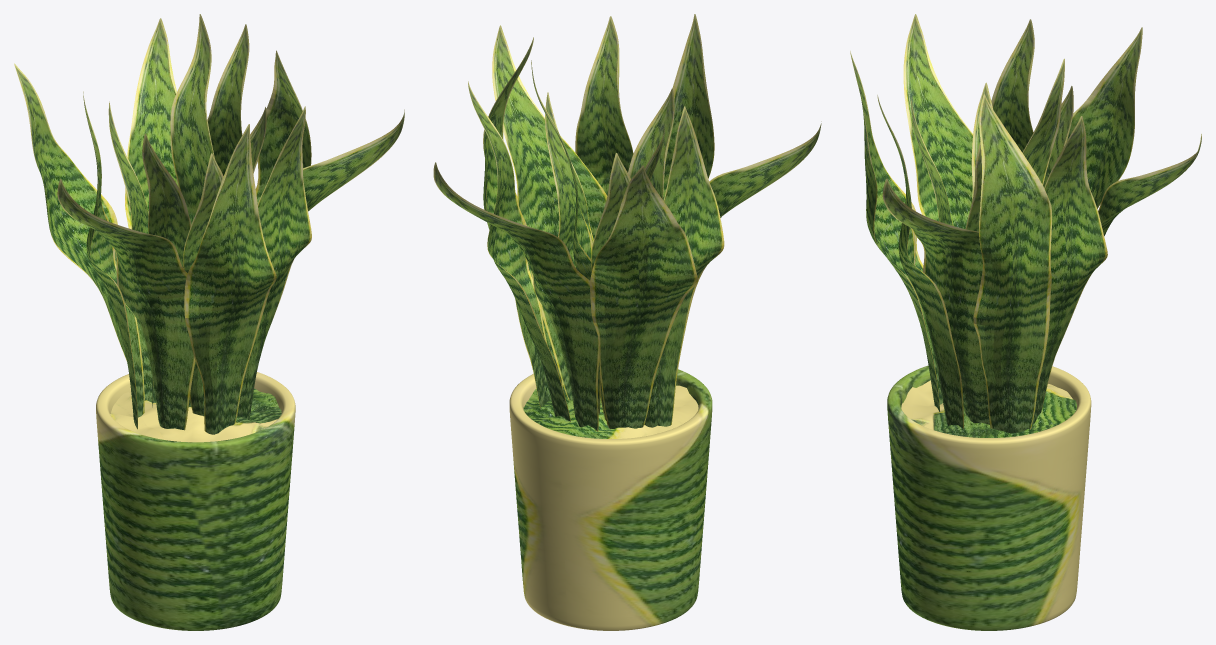
Rendered from luoi ho.fbx.
3 renders of one model, left to right at view 1: azimuth 30°, elevation 25°; view 2: azimuth 150°, elevation 25°; view 3: azimuth 270°, elevation 25°, orthographic. The views are drawn at different scales.
Parts seen in each view (by area): view 1: cay luoi ho; view 2: cay luoi ho; view 3: cay luoi ho.
Boxes of the visible parts, x1=… form: cay luoi ho: x1=14, y1=14, x2=404, y2=630; cay luoi ho: x1=433, y1=14, x2=821, y2=630; cay luoi ho: x1=850, y1=14, x2=1201, y2=630.
Size of the model in its own units: 140 by 220 by 126.
Materials: 2 (2 with a texture image).
